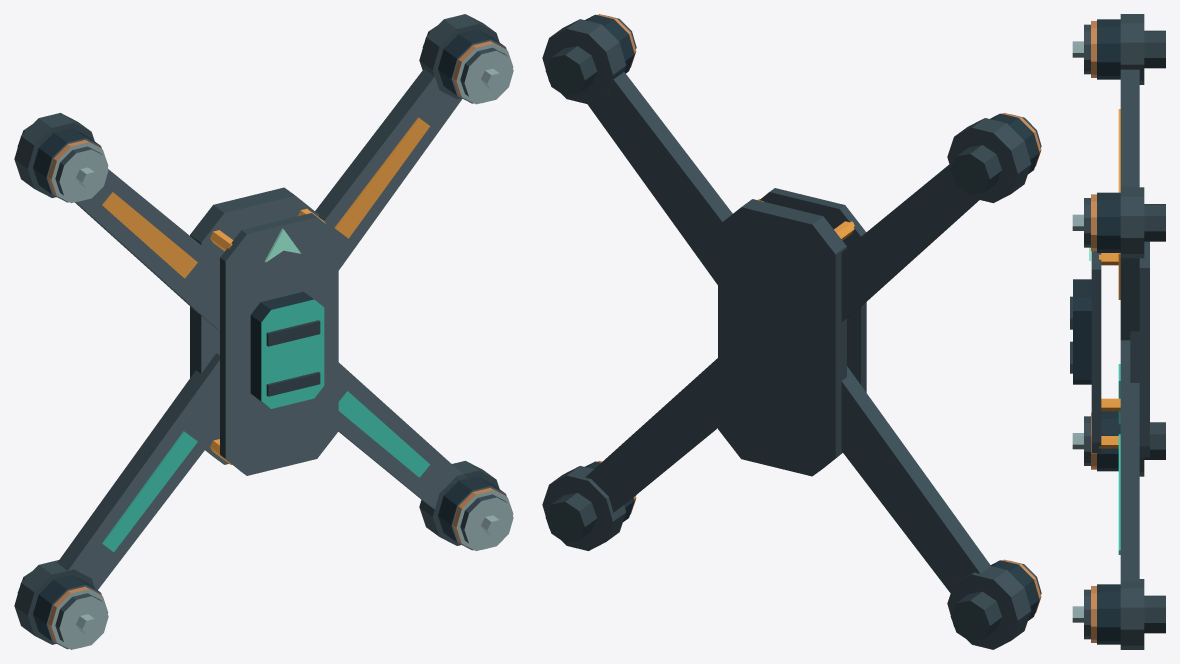
The model's file is areion250.obj.
3 views of the same model, side by side, from view 1: azimuth 30°, elevation 25°; view 2: azimuth 150°, elevation 25°; view 3: azimuth 270°, elevation 25° (orthographic). The views are drawn at different scales.
Parts seen in each view (by area): view 1: fuselage, arm4, arm2, arm1, flight_module, arm3, M1, M4, M2, M3; view 2: fuselage, arm4, arm2, arm1, arm3, M1, M4, M2, M3; view 3: fuselage, arm3, M2, M3, M1, arm1, arm2, flight_module, M4, arm4.
Part boxes in pixels (x1=…): fuselage: x1=190, y1=187, x2=338, y2=475; arm4: x1=17, y1=353, x2=219, y2=593; arm2: x1=315, y1=25, x2=462, y2=270; arm1: x1=17, y1=125, x2=219, y2=331; flight_module: x1=250, y1=291, x2=324, y2=408; arm3: x1=338, y1=362, x2=466, y2=509; M1: x1=14, y1=113, x2=108, y2=203; M4: x1=14, y1=560, x2=108, y2=649; M2: x1=419, y1=14, x2=513, y2=104; M3: x1=419, y1=460, x2=513, y2=550; fuselage: x1=718, y1=188, x2=866, y2=476; arm4: x1=841, y1=366, x2=1001, y2=641; arm2: x1=545, y1=46, x2=732, y2=284; arm1: x1=841, y1=145, x2=1002, y2=321; arm3: x1=545, y1=358, x2=717, y2=542; M1: x1=947, y1=113, x2=1041, y2=203; M4: x1=947, y1=559, x2=1041, y2=649; M2: x1=542, y1=14, x2=636, y2=104; M3: x1=542, y1=460, x2=636, y2=550; fuselage: x1=1091, y1=241, x2=1149, y2=457; arm3: x1=1118, y1=361, x2=1165, y2=633; M2: x1=1072, y1=187, x2=1144, y2=258; M3: x1=1072, y1=579, x2=1144, y2=649; M1: x1=1072, y1=14, x2=1144, y2=84; arm1: x1=1118, y1=30, x2=1165, y2=192; arm2: x1=1118, y1=204, x2=1165, y2=340; flight_module: x1=1070, y1=279, x2=1091, y2=384; M4: x1=1072, y1=411, x2=1144, y2=476; arm4: x1=1118, y1=340, x2=1165, y2=459.
Bounding box in the file's own units: 1.74 × 1.81 × 0.346.
